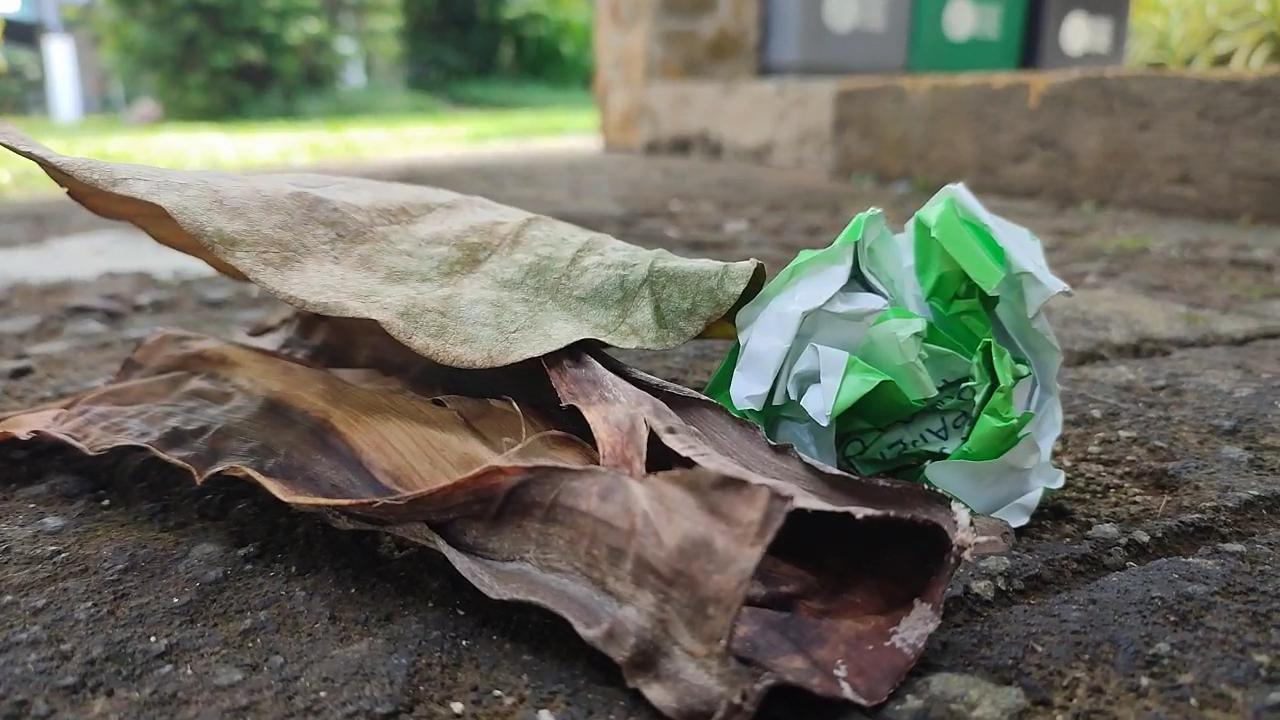Paper: (708, 168, 1086, 530)
